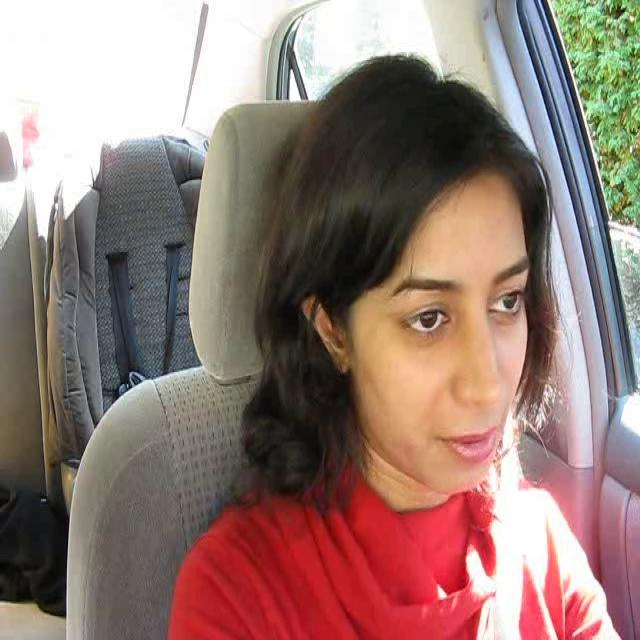close: (433, 421, 507, 465)
